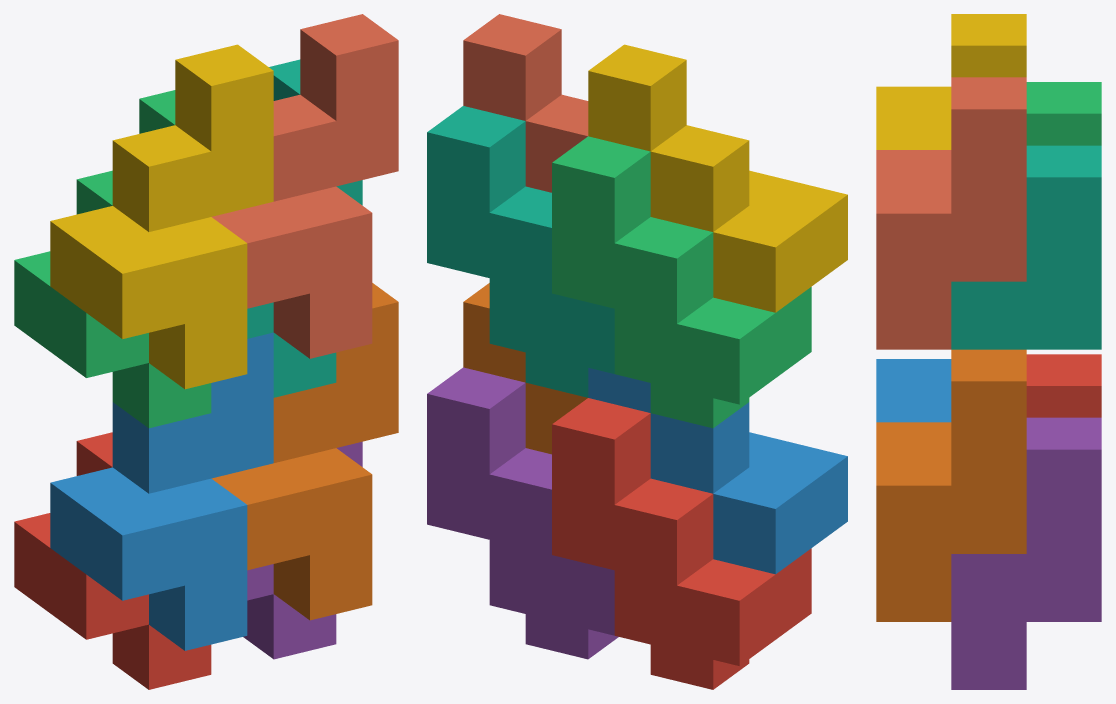
The model's file is tiling.obj.
3 renders of one model, left to right at view 1: azimuth 30°, elevation 25°; view 2: azimuth 150°, elevation 25°; view 3: azimuth 270°, elevation 25°, orthographic. The views are drawn at different scales.
Parts seen in each view (by area): view 1: copy_1_domain_4, copy_1_domain_2, copy_1_domain_8, copy_1_domain_6, copy_1_domain_3, copy_1_domain_1, copy_1_domain_5, copy_1_domain_7; view 2: copy_1_domain_3, copy_1_domain_1, copy_1_domain_4, copy_1_domain_5, copy_1_domain_7, copy_1_domain_2, copy_1_domain_8, copy_1_domain_6; view 3: copy_1_domain_6, copy_1_domain_8, copy_1_domain_5, copy_1_domain_7, copy_1_domain_4, copy_1_domain_1, copy_1_domain_3, copy_1_domain_2.
Part boxes in pixels (x1,y1,x2,y2): copy_1_domain_4: (50,44,273,389); copy_1_domain_2: (50,332,273,650); copy_1_domain_8: (212,14,398,358); copy_1_domain_6: (211,283,398,620); copy_1_domain_3: (14,90,211,428); copy_1_domain_1: (14,432,211,689); copy_1_domain_5: (243,441,362,659); copy_1_domain_7: (247,59,362,397); copy_1_domain_3: (552,136,811,428); copy_1_domain_1: (552,398,811,689); copy_1_domain_4: (588,44,847,312); copy_1_domain_5: (427,367,618,659); copy_1_domain_7: (427,106,614,397); copy_1_domain_2: (588,368,847,574); copy_1_domain_8: (463,14,588,192); copy_1_domain_6: (463,283,587,454); copy_1_domain_6: (876,349,1026,621); copy_1_domain_8: (876,77,1026,349); copy_1_domain_5: (951,417,1101,689); copy_1_domain_7: (951,145,1101,349); copy_1_domain_4: (876,14,1026,149); copy_1_domain_1: (1026,354,1101,417); copy_1_domain_3: (1026,82,1101,145); copy_1_domain_2: (876,359,951,422).
Bounding box in the file's own units: 5 × 9 × 3.
